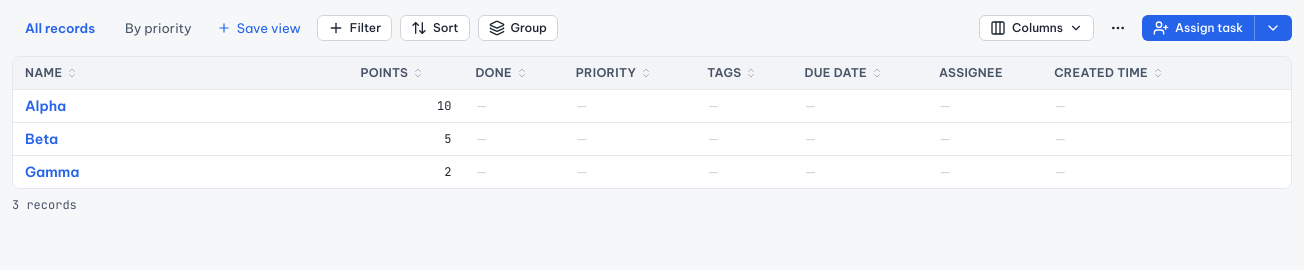
Scenario: views that keep a grouping › groups again when a saved view with a grouping is chosen
This screenshot has width=1304, height=270.
Expected: the text "Alpha" is shown, top-left (25, 96), bottom-right (66, 116)
Click the button "By priority".
click(158, 28)  # box top-left (112, 15), bottom-right (205, 41)
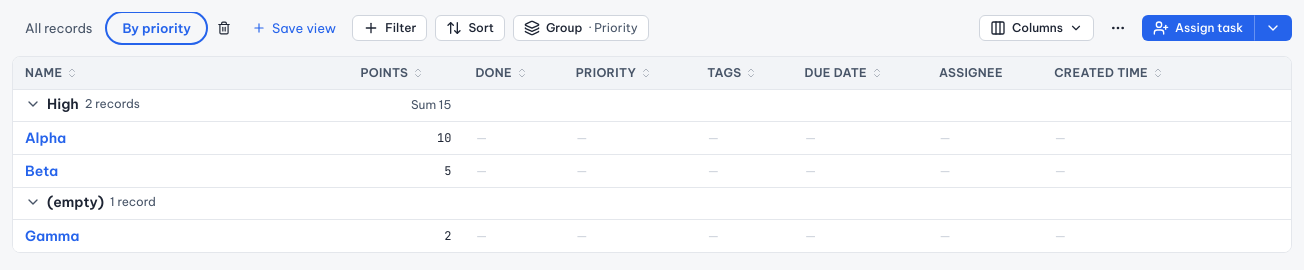
Result: the button "High 2 records" is shown at top-left (25, 94), bottom-right (140, 114)
# Back to "All records": no grouping.
Click the button "All records".
click(59, 28)  # box top-left (12, 15), bottom-right (106, 41)
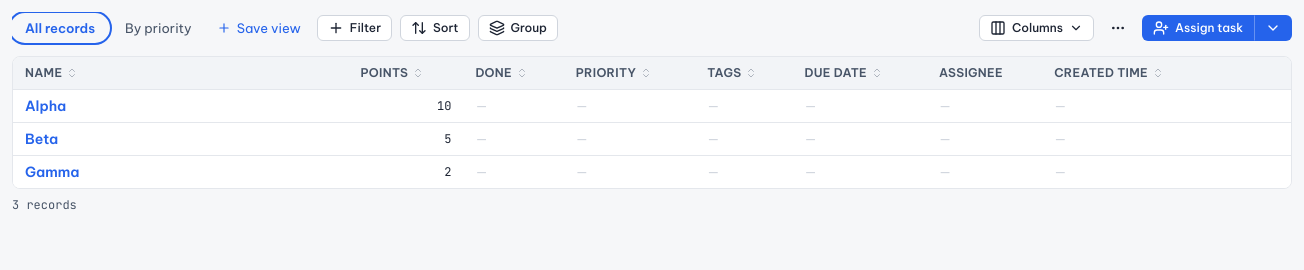
Result: the button "High" is gone
